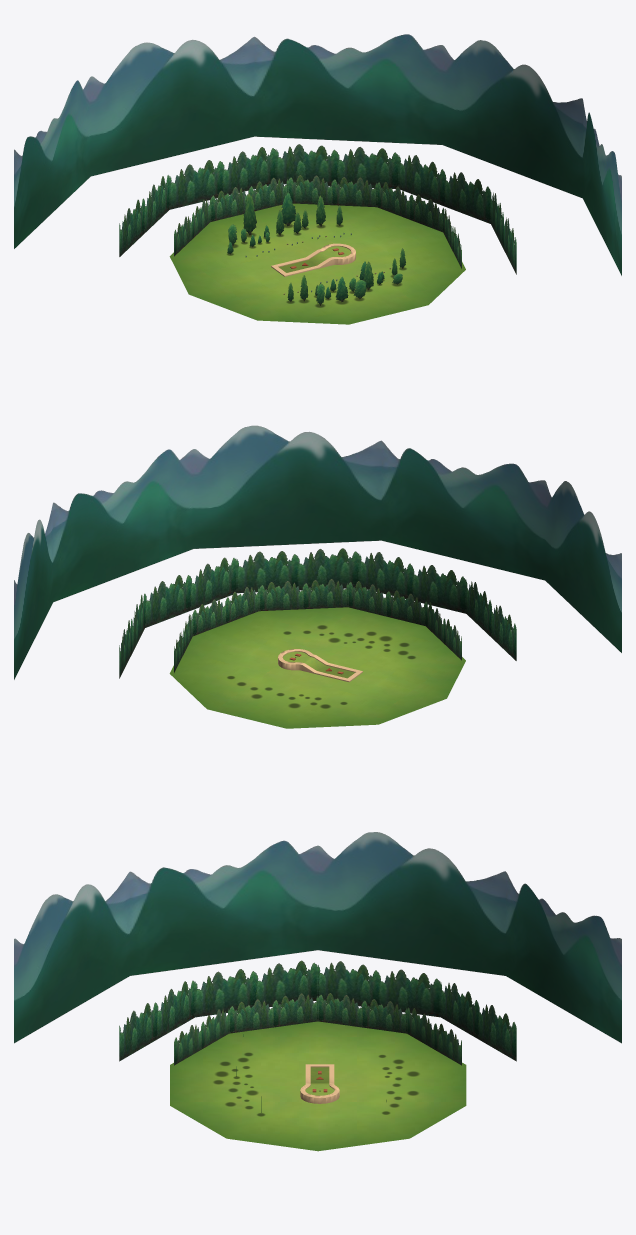
Rendered from hole7.glb.
The picture shows the model from 3 angles, top to bottom: view 1: azimuth 30°, elevation 25°; view 2: azimuth 150°, elevation 25°; view 3: azimuth 270°, elevation 25°; orthographic projection. The views are drawn at different scales.
Parts seen in each view (by area): view 1: background1, grass_base, background3, background2, edges1, grass1; view 2: background1, grass_base, background3, background2, edges1, grass1; view 3: background1, grass_base, background3, background2, edges1, grass1.
Boxes of the visible parts, bbox=[...] form: background1: bbox=[14, 34, 621, 275]; grass_base: bbox=[169, 203, 465, 324]; background3: bbox=[119, 144, 516, 274]; background2: bbox=[174, 175, 461, 268]; edges1: bbox=[271, 243, 355, 276]; grass1: bbox=[279, 246, 351, 272]; background1: bbox=[14, 425, 621, 679]; grass_base: bbox=[169, 607, 465, 728]; background3: bbox=[119, 548, 516, 678]; background2: bbox=[174, 579, 461, 672]; edges1: bbox=[278, 649, 362, 682]; grass1: bbox=[283, 651, 354, 678]; background1: bbox=[14, 832, 621, 1043]; grass_base: bbox=[170, 1021, 466, 1151]; background3: bbox=[119, 960, 516, 1061]; background2: bbox=[174, 993, 461, 1065]; edges1: bbox=[300, 1064, 339, 1103]; grass1: bbox=[305, 1067, 334, 1095].
Size of what is drawn, in the model's own units: 347 by 78.81 by 330.
Materials: 9 (9 with a texture image).
